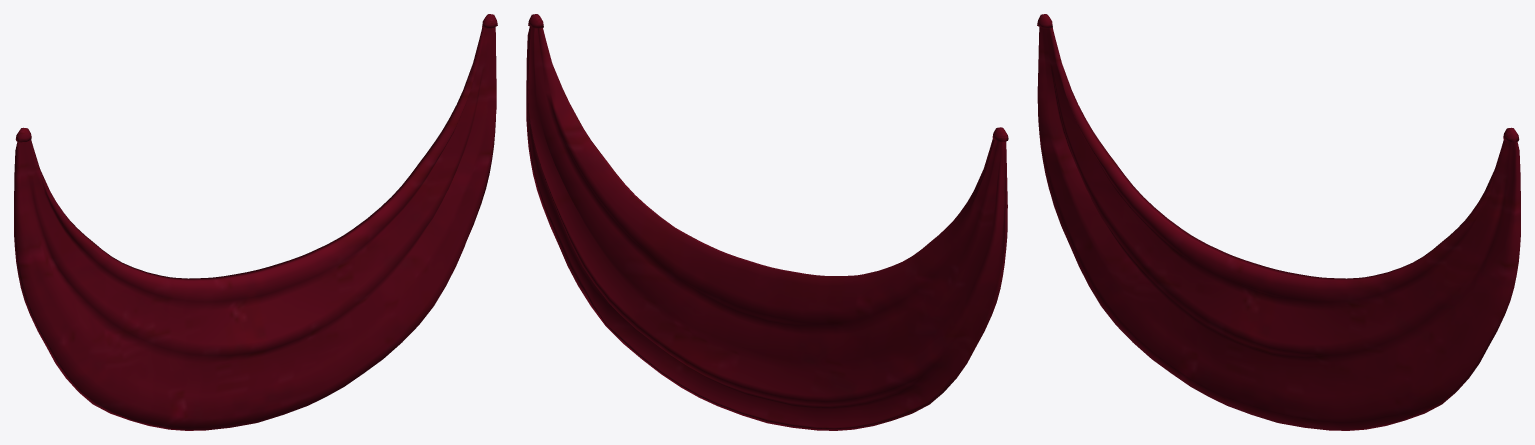
3 views of the same model, side by side, from view 1: azimuth 30°, elevation 25°; view 2: azimuth 150°, elevation 25°; view 3: azimuth 330°, elevation 25° (orthographic).
Bounding box in the file's own units: 20 × 14 × 1.31.
1 material, 1 textured.
